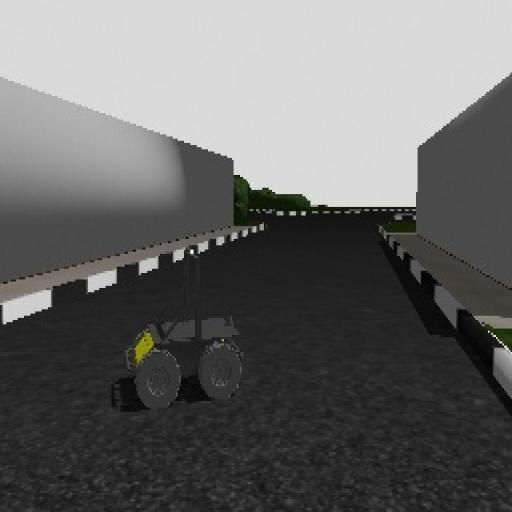huskya200: (119, 222, 269, 452)
